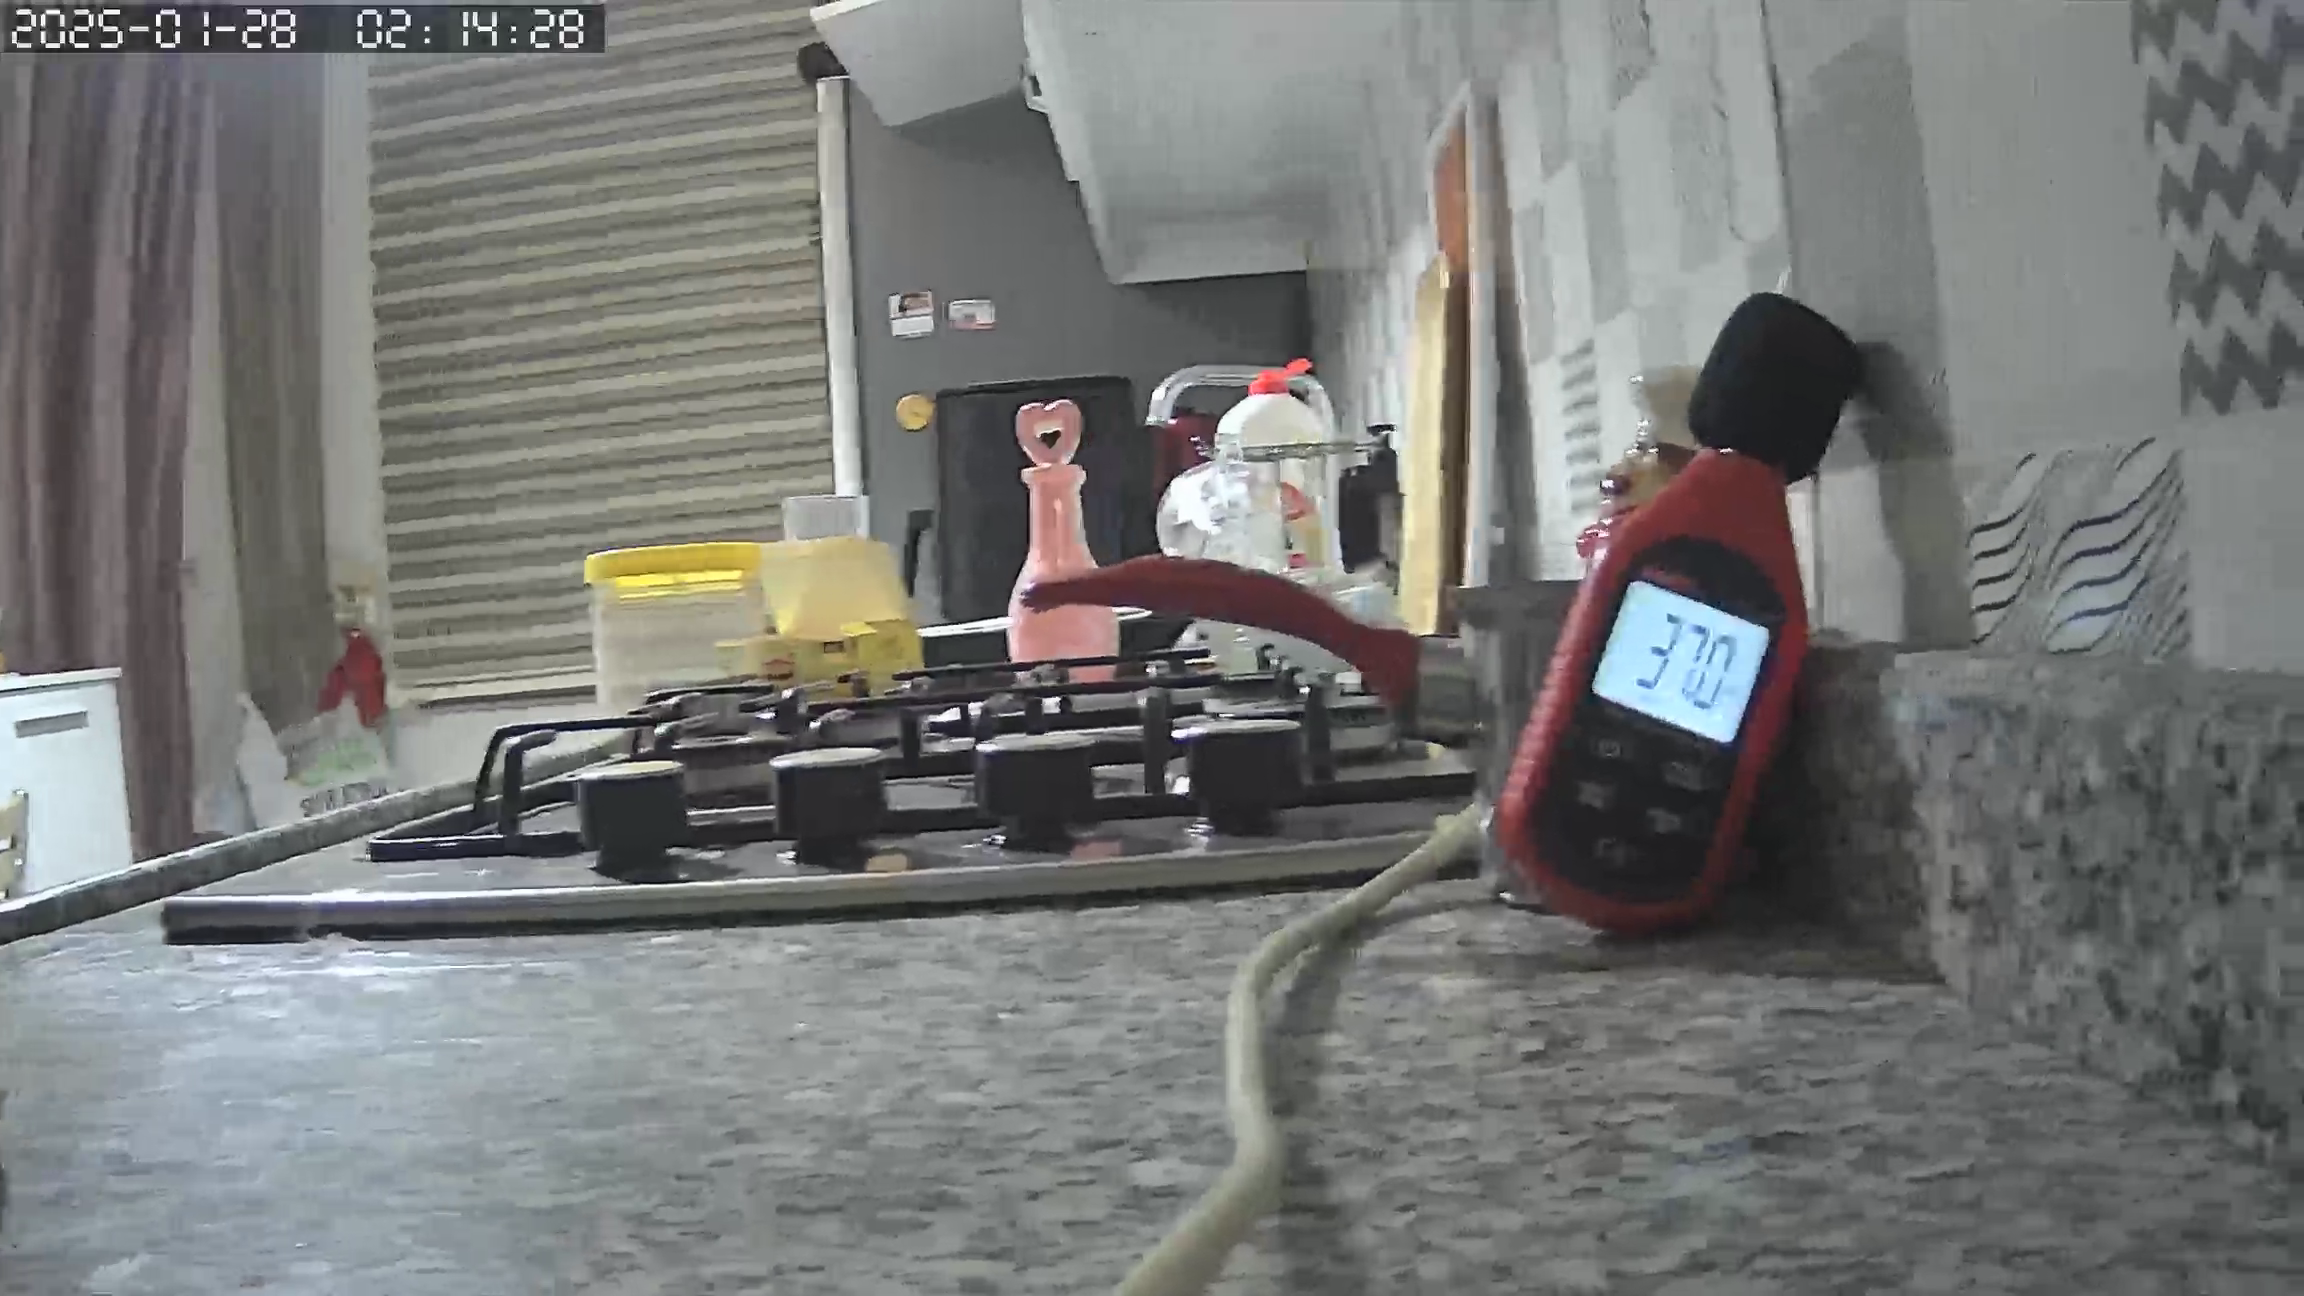screen: (1598, 582, 1774, 745)
